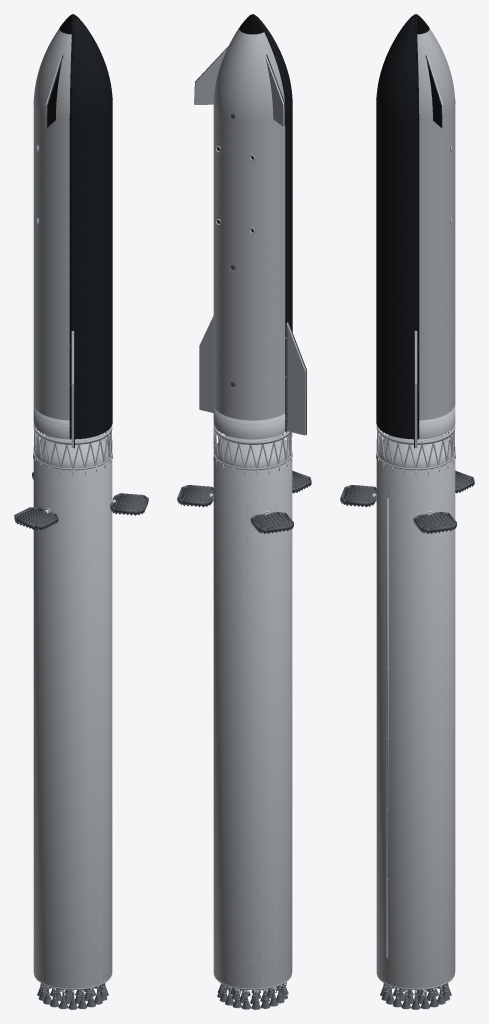
Rendered from starship-v3.glb.
3 renders of one model, left to right at view 1: azimuth 90°, elevation 25°; view 2: azimuth 150°, elevation 25°; view 3: azimuth 270°, elevation 25°, orthographic.
Visible parts, largest first — view 1: booster-V3 satin stainless steel, S39-individual-hex-tile-field, ship-V3 satin stainless steel, S39-TPS-recessed-base, recovery-V3 satin stainless steel, booster-Machined interface metal, B19 grid fin 2-Raptor dark alloy exterior, B19 grid fin 3-Raptor dark alloy exterior, flaps-Thermal protection curved edges, S39-forward-flap--1-tiled-windward, S39-aft-flap--1-thick-metal-core; view 2: booster-V3 satin stainless steel, ship-V3 satin stainless steel, recovery-V3 satin stainless steel, S39-individual-hex-tile-field, S39-aft-flap--1-thick-metal-core, booster-Machined interface metal, S39-aft-flap-1-thick-metal-core, S39-TPS-recessed-base, S39-forward-flap-1-thick-metal-core, B19 grid fin 2-Raptor dark alloy exterior, B19 grid fin 1-Raptor dark alloy exterior, ship-Machined interface metal (+2 smaller); view 3: booster-V3 satin stainless steel, S39-individual-hex-tile-field, ship-V3 satin stainless steel, S39-TPS-recessed-base, recovery-V3 satin stainless steel, booster-Machined interface metal, B19 grid fin 1-Raptor dark alloy exterior, B19 grid fin 3-Raptor dark alloy exterior, flaps-Thermal protection curved edges, S39-aft-flap-1-thick-metal-core, S39-forward-flap-1-individual-tiles.
Part boxes in pixels (x1,y1,x2,y2): booster-V3 satin stainless steel: [33, 455, 112, 989]; S39-individual-hex-tile-field: [70, 16, 112, 438]; ship-V3 satin stainless steel: [33, 28, 107, 439]; S39-TPS-recessed-base: [70, 14, 111, 439]; recovery-V3 satin stainless steel: [33, 424, 112, 470]; booster-Machined interface metal: [34, 480, 111, 983]; B19 grid fin 2-Raptor dark alloy exterior: [14, 507, 58, 530]; B19 grid fin 3-Raptor dark alloy exterior: [110, 493, 148, 515]; flaps-Thermal protection curved edges: [69, 16, 72, 438]; S39-forward-flap--1-tiled-windward: [47, 62, 61, 126]; S39-aft-flap--1-thick-metal-core: [71, 331, 73, 447]; booster-V3 satin stainless steel: [213, 455, 292, 990]; ship-V3 satin stainless steel: [213, 28, 286, 439]; recovery-V3 satin stainless steel: [213, 424, 292, 470]; S39-individual-hex-tile-field: [257, 17, 292, 430]; S39-aft-flap--1-thick-metal-core: [286, 322, 306, 435]; booster-Machined interface metal: [214, 480, 291, 988]; S39-aft-flap-1-thick-metal-core: [199, 316, 213, 412]; S39-TPS-recessed-base: [253, 14, 292, 431]; S39-forward-flap-1-thick-metal-core: [194, 46, 228, 104]; B19 grid fin 2-Raptor dark alloy exterior: [250, 512, 293, 533]; B19 grid fin 1-Raptor dark alloy exterior: [177, 485, 213, 507]; ship-Machined interface metal: [214, 116, 284, 439]; booster-V3 satin stainless steel: [376, 455, 455, 989]; S39-individual-hex-tile-field: [376, 16, 418, 438]; ship-V3 satin stainless steel: [381, 28, 455, 439]; S39-TPS-recessed-base: [377, 14, 418, 439]; recovery-V3 satin stainless steel: [376, 424, 455, 470]; booster-Machined interface metal: [377, 480, 454, 983]; B19 grid fin 1-Raptor dark alloy exterior: [413, 512, 456, 533]; B19 grid fin 3-Raptor dark alloy exterior: [340, 485, 376, 507]; flaps-Thermal protection curved edges: [416, 16, 419, 438]; S39-aft-flap-1-thick-metal-core: [415, 331, 417, 447]; S39-forward-flap-1-individual-tiles: [426, 60, 441, 124].
Bounding box in the file's own units: 15.95 × 124 × 15.36.
Materials: 9 (1 with a texture image).
